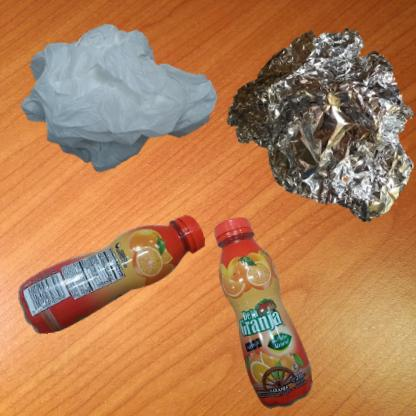aluminio: (213, 10, 416, 232)
bolsa: (10, 10, 239, 201)
botella: (10, 213, 229, 345), (213, 213, 317, 416)
